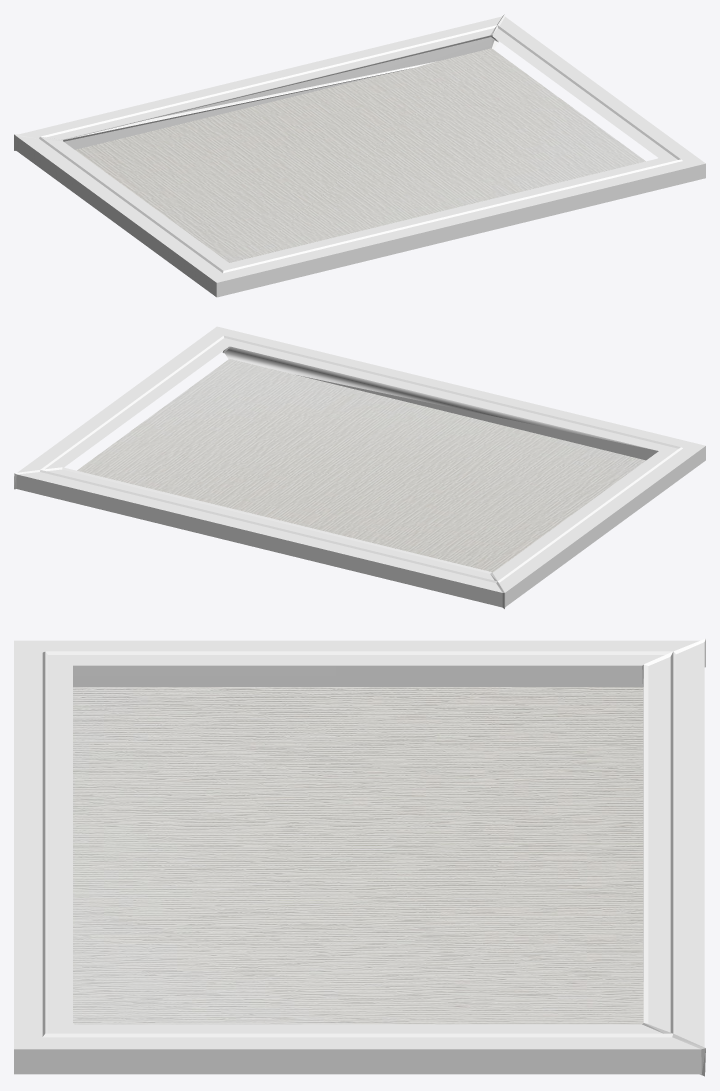
Rendered from Picture1.FBX.
The picture shows the model from 3 angles, top to bottom: view 1: azimuth 30°, elevation 25°; view 2: azimuth 150°, elevation 25°; view 3: azimuth 270°, elevation 25°; orthographic projection. The views are drawn at different scales.
Parts seen in each view (by area): view 1: image, rama; view 2: image, rama; view 3: image, rama.
Boxes of the visible parts, x1,y1,x2,y2 form: image: (75,48,645,262); rama: (14,14,705,297); image: (77,359,645,572); rama: (14,326,705,608); image: (73,687,643,1024); rama: (14,638,705,1076).
Bounding box in the file's own units: 703 × 24 × 501.
